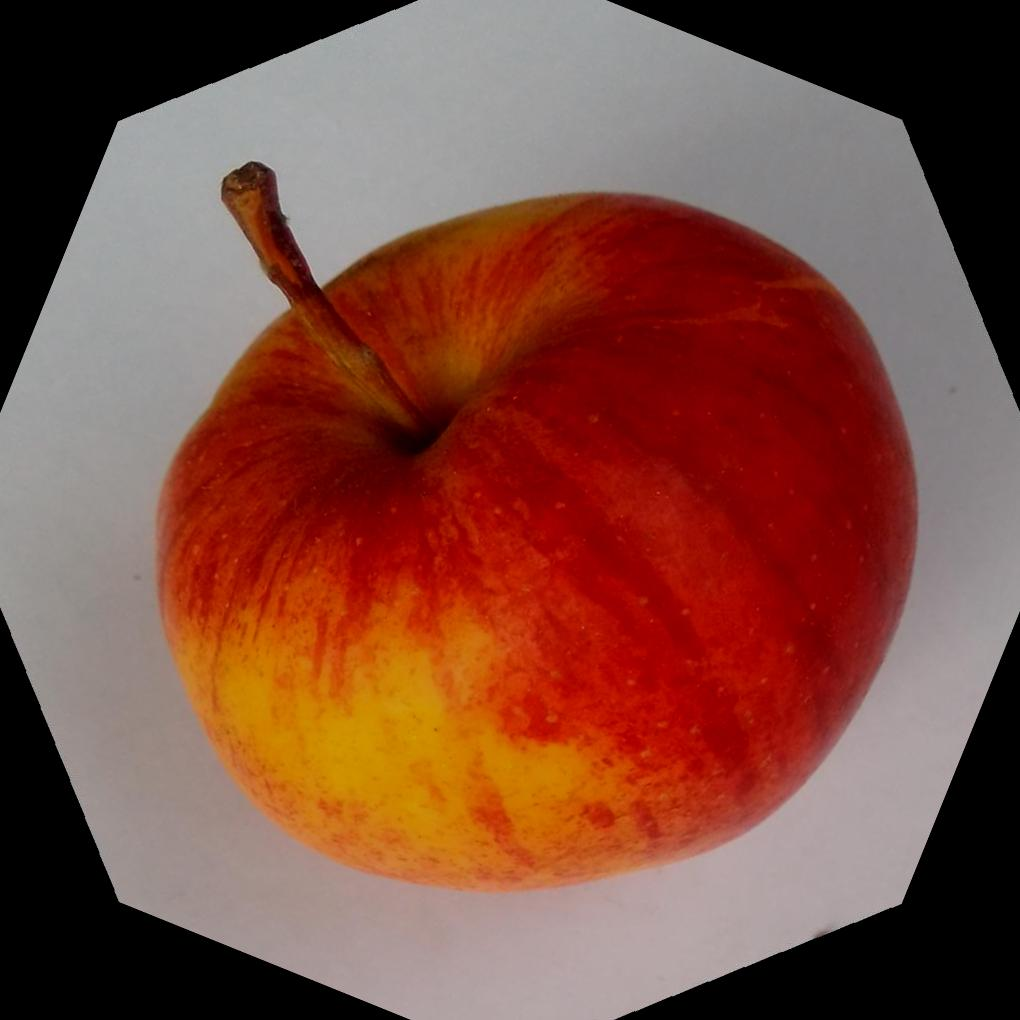FreshGuava: (152, 161, 923, 898)
